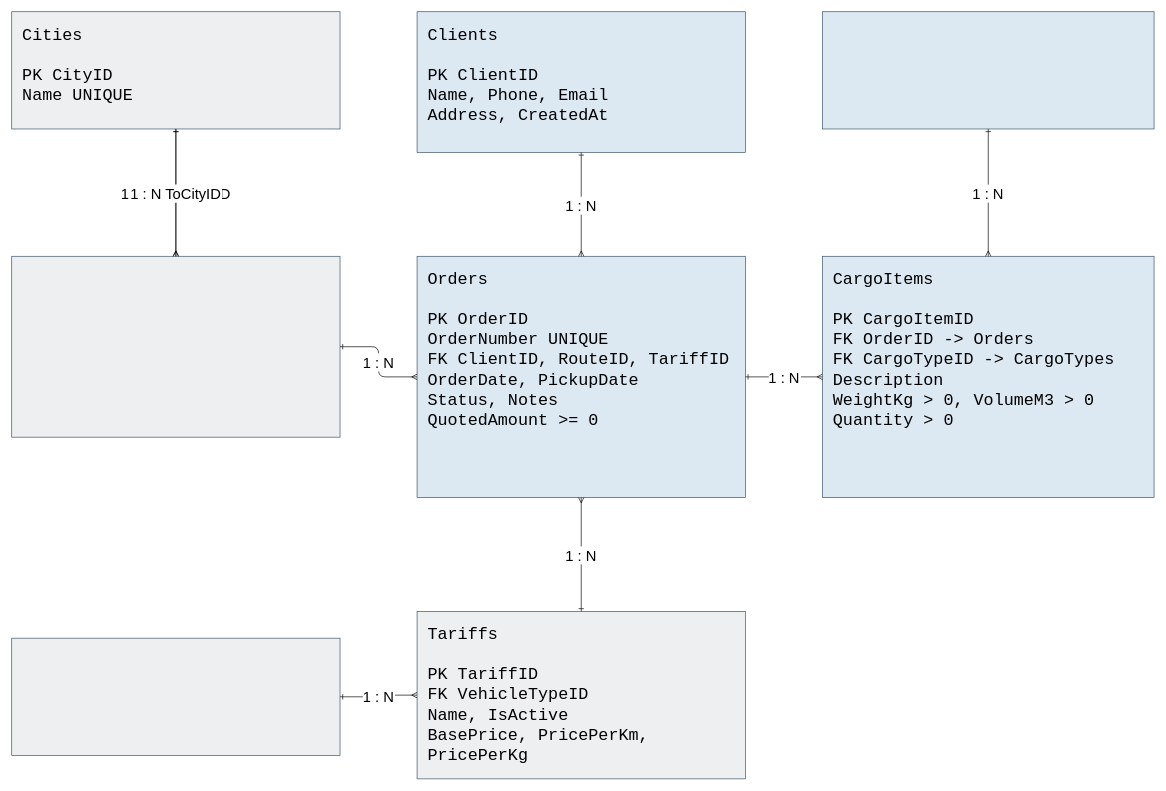
Image size: 1166x791. Some labels were removed from this diagram. Here are the shapes that lost their labels. From the top down, the centre of each, then its label:
(x=988, y=70): CargoTypes PK CargoTypeID Name UNIQUE, Description
(x=175, y=346): Routes PK RouteID FK FromCityID -> Cities FK ToCityID -> Cities DistanceKm > 0
(x=175, y=696): VehicleTypes PK VehicleTypeID Name UNIQUE
